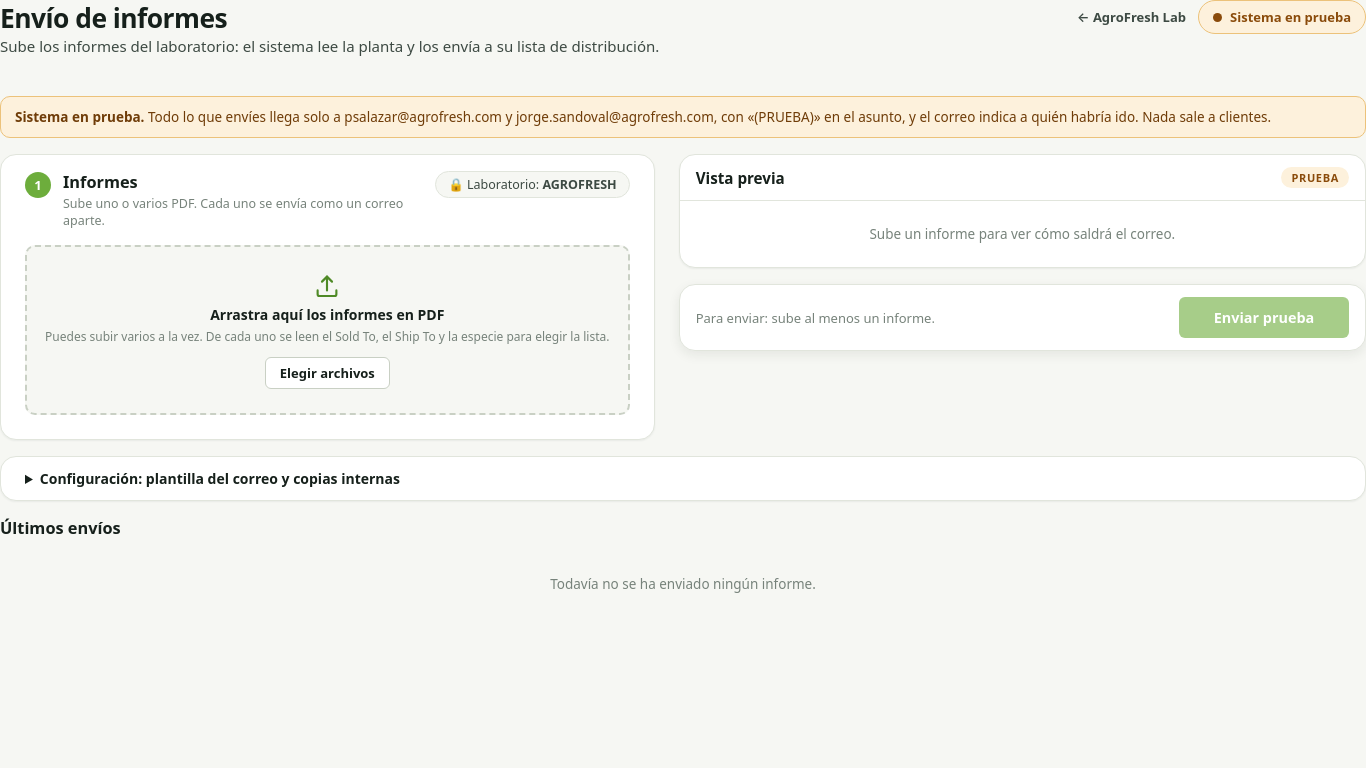
EnvioInformesView › pasar a producción pide la contraseña
Click the button "Sistema en prueba" at point(1282, 17), box left=1198, top=0, right=1365, bottom=34
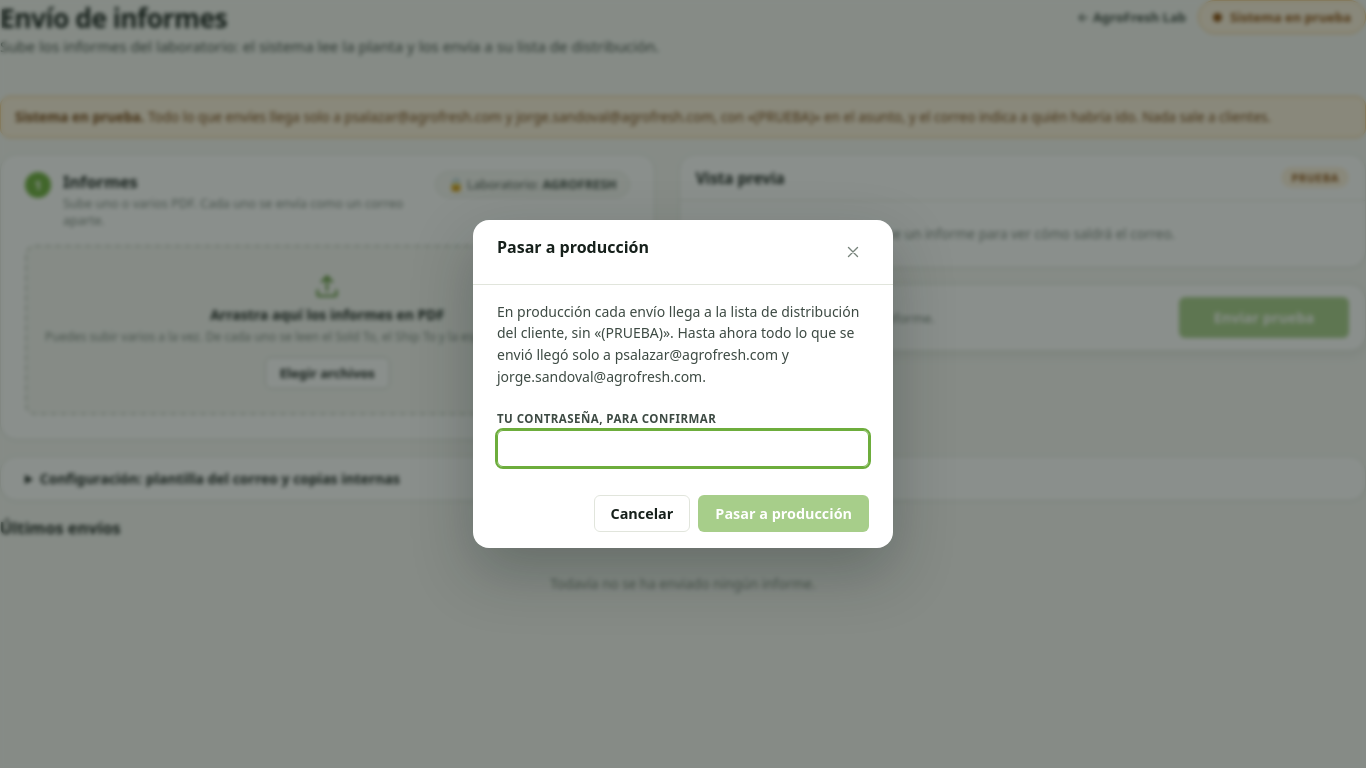
Check: the button "Pasar a producción" is disabled, box left=698, top=495, right=869, bottom=532
Type "clave" into the password field labelled "Tu contraseña, para confirmar" at point(683, 449), box left=497, top=430, right=869, bottom=467
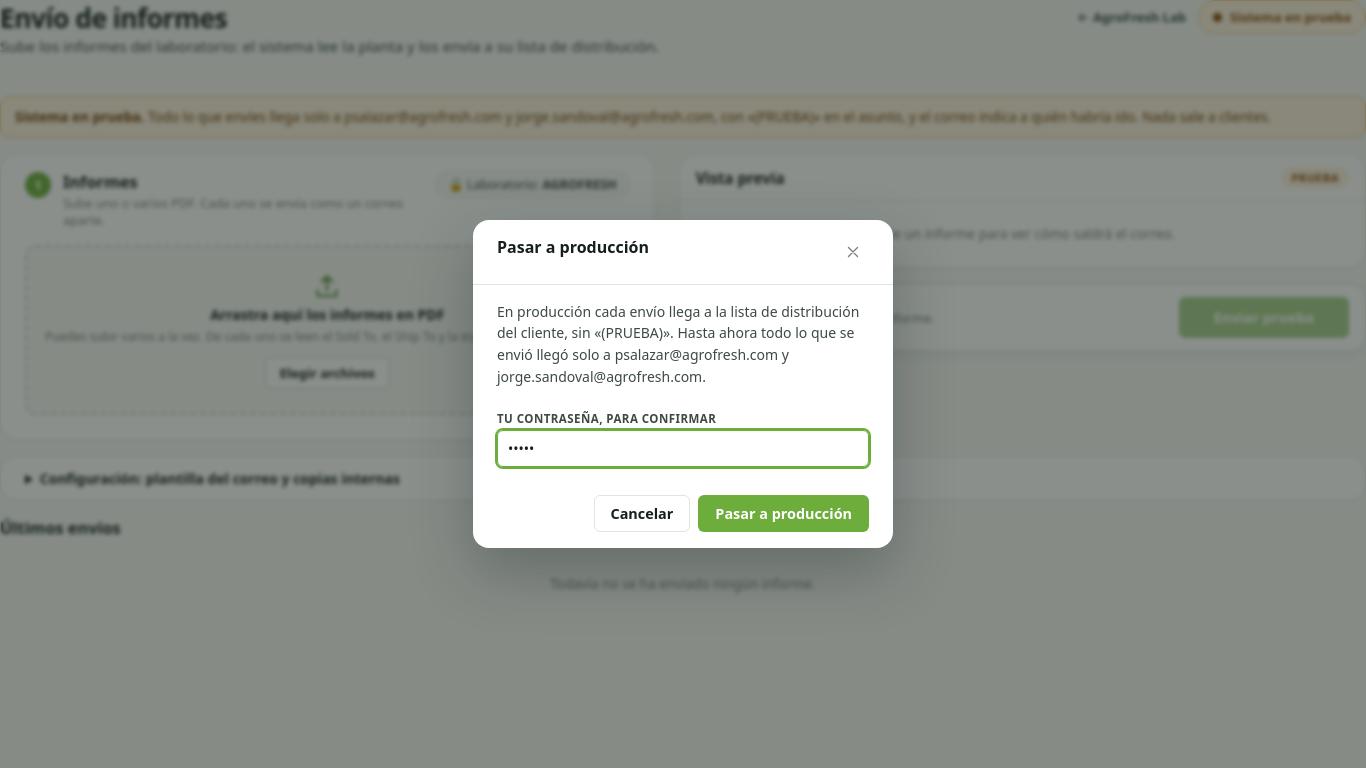
Click the button "Pasar a producción" at point(784, 514), box left=698, top=495, right=869, bottom=532
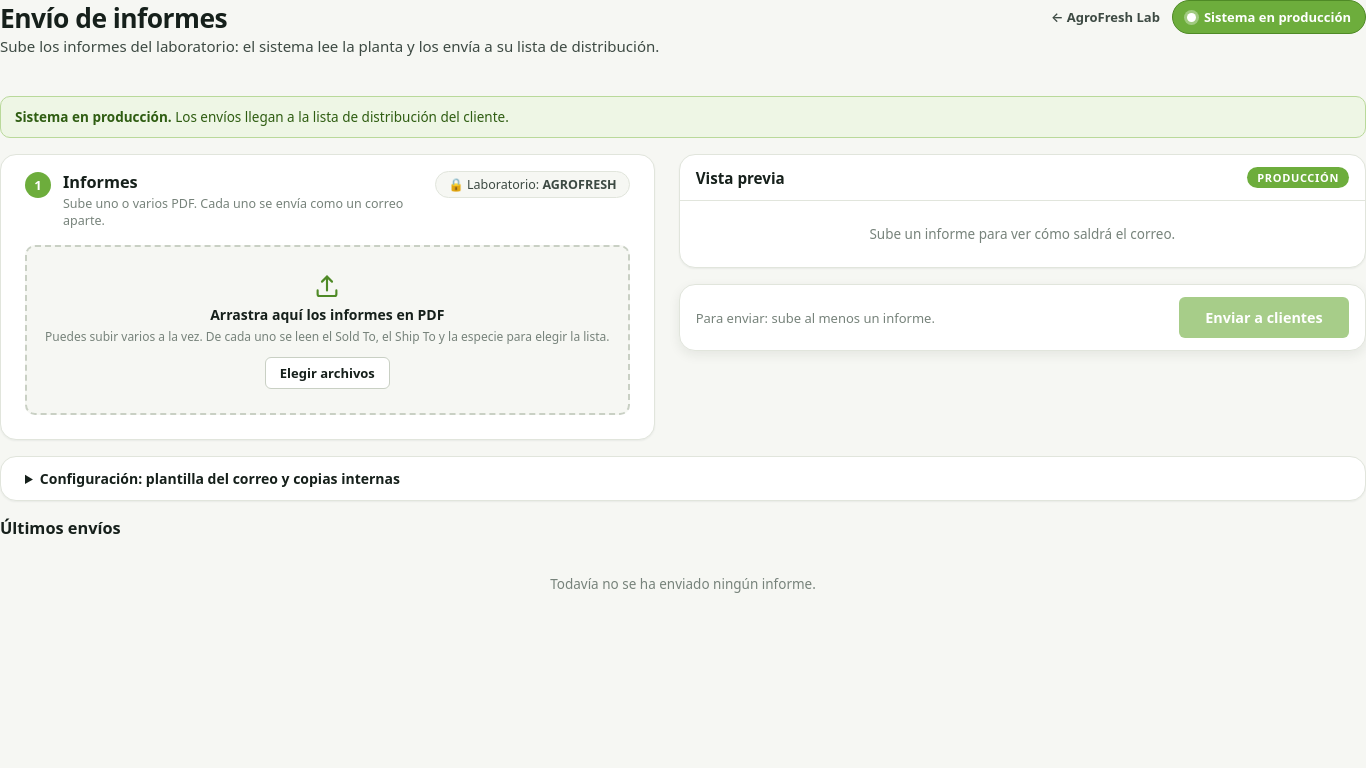
Check: the button "Sistema en producción" is shown, box left=1172, top=0, right=1365, bottom=34
